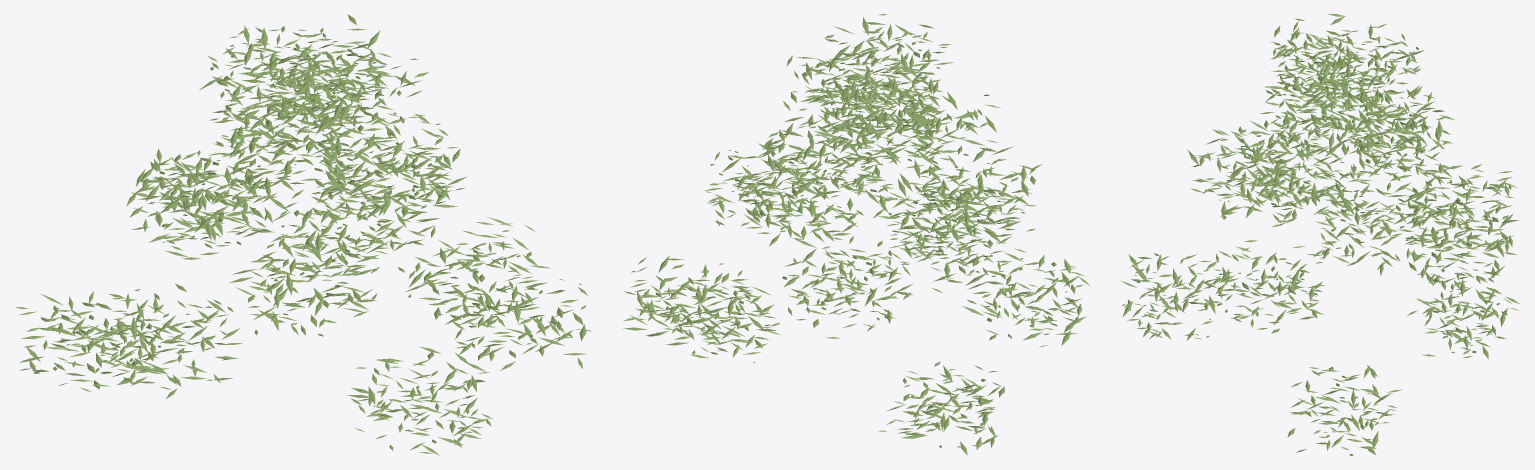
File: teaching3-vegetation-07-near.glb
The picture shows the model from 3 angles, left to right: view 1: azimuth 30°, elevation 25°; view 2: azimuth 150°, elevation 25°; view 3: azimuth 270°, elevation 25°; orthographic projection. The views are drawn at different scales.
Visible parts, largest first — view 1: vegetation cedar leaves.001; view 2: vegetation cedar leaves.001; view 3: vegetation cedar leaves.001.
Boxes of the visible parts, bbox=[...] form: vegetation cedar leaves.001: bbox=[15, 14, 592, 455]; vegetation cedar leaves.001: bbox=[623, 14, 1089, 455]; vegetation cedar leaves.001: bbox=[1120, 14, 1519, 455].
Size of the model in its own units: 12.01 by 8.75 by 9.94.
